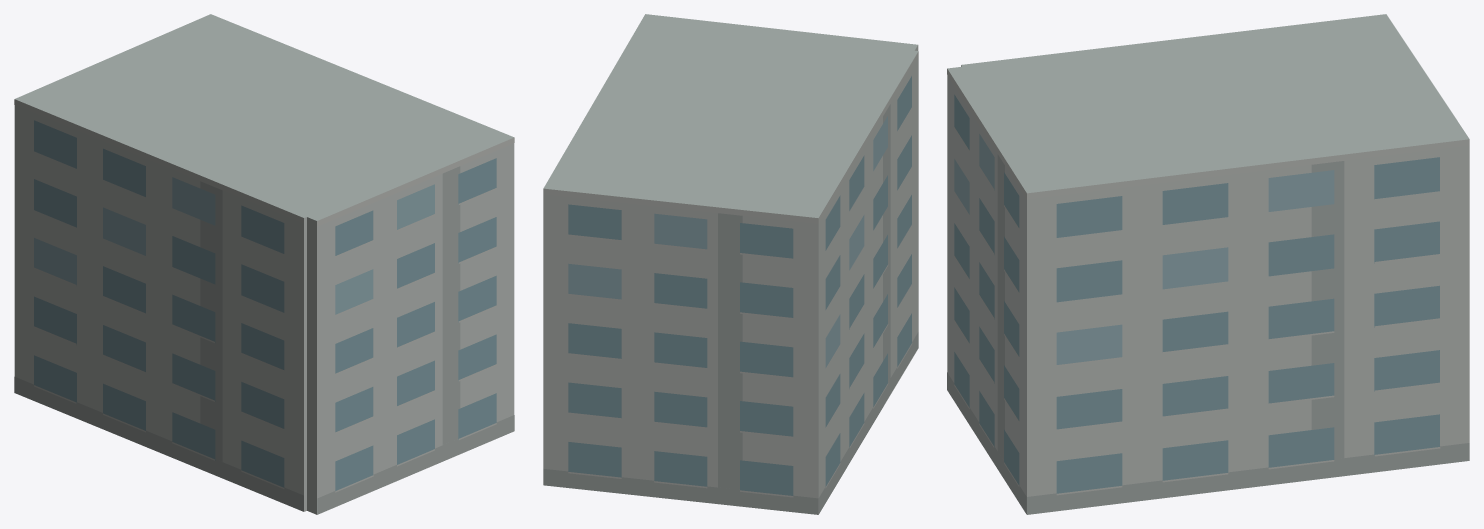
File: survey-upis-32653463.glb
The picture shows the model from 3 angles, left to right: view 1: azimuth 30°, elevation 25°; view 2: azimuth 150°, elevation 25°; view 3: azimuth 270°, elevation 25°; orthographic projection. The views are drawn at different scales.
Parts seen in each view (by area): view 1: survey-upis-32653463.tmp; view 2: survey-upis-32653463.tmp; view 3: survey-upis-32653463.tmp.
Part boxes in pixels (x1,y1,x2,y2): survey-upis-32653463.tmp: [14, 14, 514, 514]; survey-upis-32653463.tmp: [543, 14, 918, 514]; survey-upis-32653463.tmp: [947, 14, 1469, 514].
Size of the model in its own units: 14.96 by 12.5 by 18.42.
